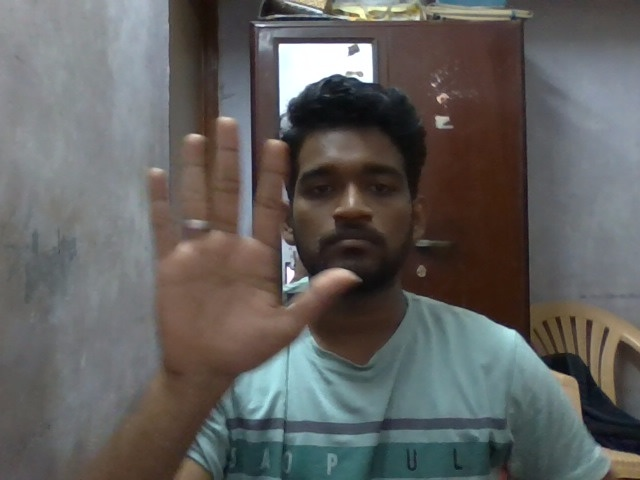Hello: (135, 108, 360, 374)
